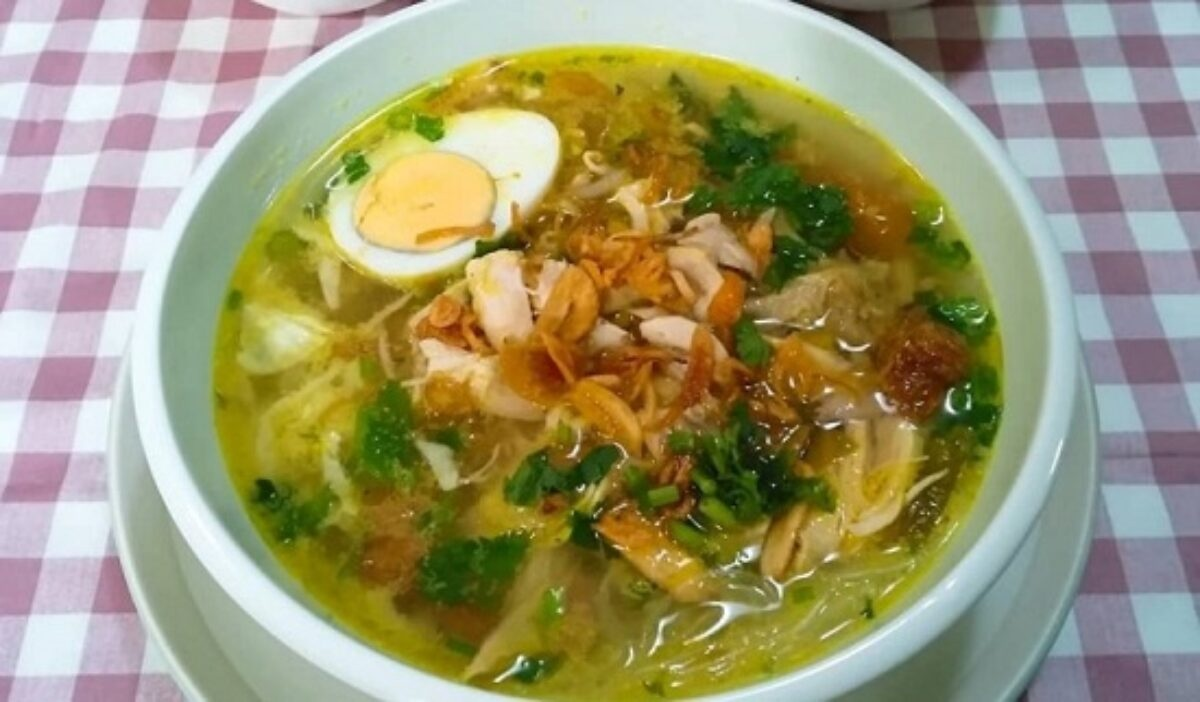soto: (112, 16, 1071, 691)
